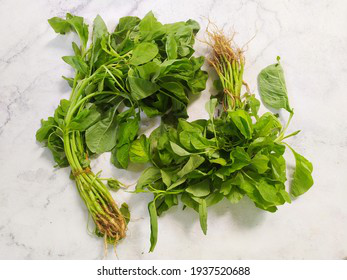Bayam: (29, 8, 322, 257)
